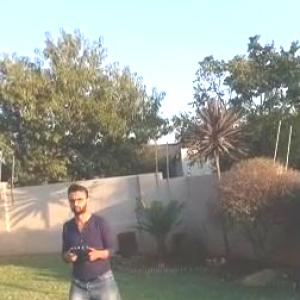follow: (60, 176, 152, 299)
